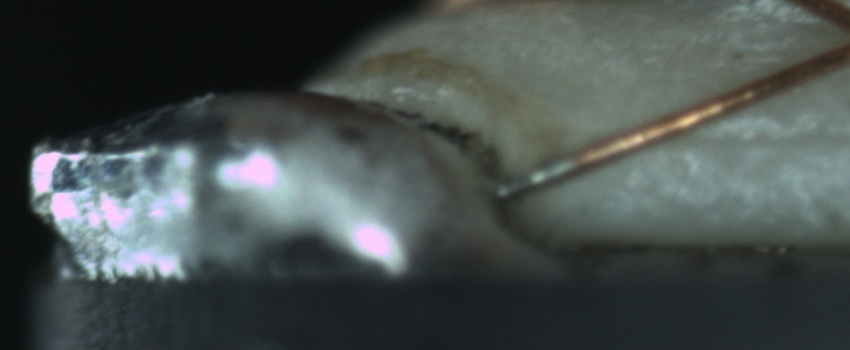DL: (670, 105, 849, 173)
TS: (492, 153, 576, 199)
